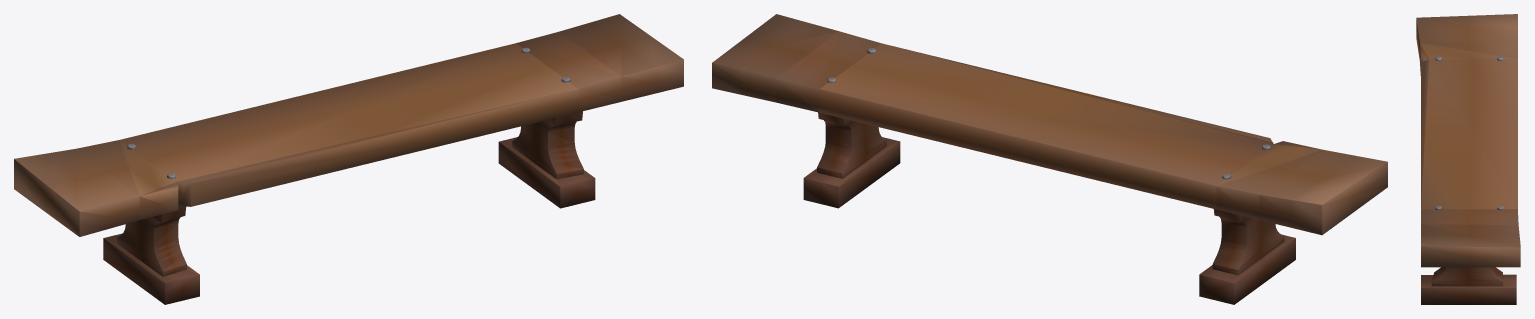
The model's file is prop_bench.glb.
The picture shows the model from 3 angles, left to right: view 1: azimuth 30°, elevation 25°; view 2: azimuth 150°, elevation 25°; view 3: azimuth 270°, elevation 25°; orthographic projection. The views are drawn at different scales.
Visible parts, largest first — view 1: prop_bench; view 2: prop_bench; view 3: prop_bench.
Part boxes in pixels (x1=…): prop_bench: x1=14, y1=14, x2=683, y2=304; prop_bench: x1=712, y1=14, x2=1387, y2=304; prop_bench: x1=1416, y1=14, x2=1520, y2=304.
Bounding box in the file's own units: 2.78 × 0.5332 × 0.5343.
